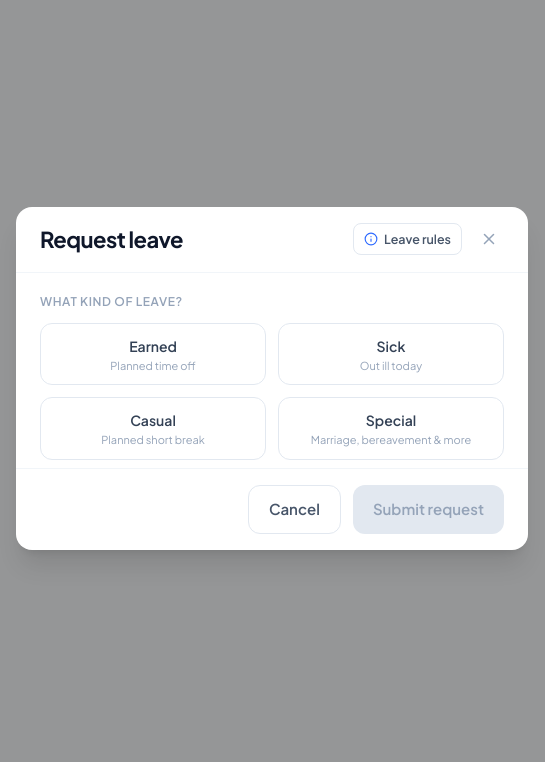
Scenario: Casual › requires 3 working days notice for a single day
Click the button "Casual Planned short break" at (153, 429), box x1=40 y1=397 x2=266 y2=460
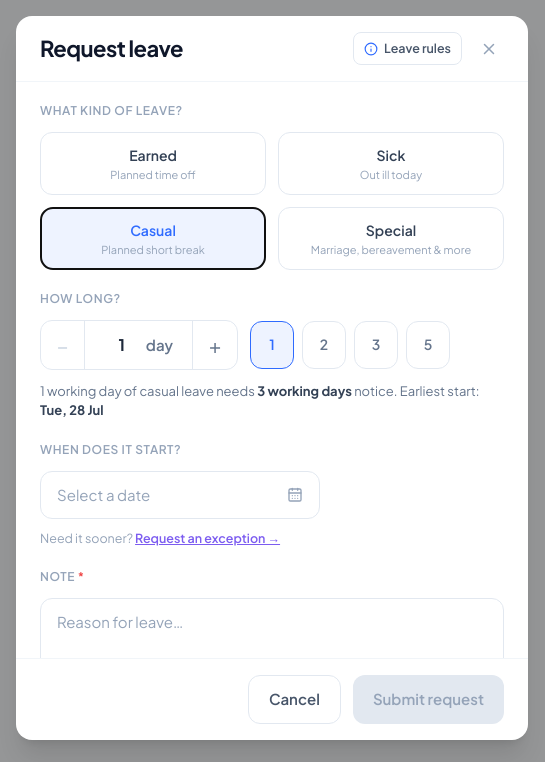
Expected: the text "needs" shows "3 working days", x1=40 y1=382 x2=504 y2=421
